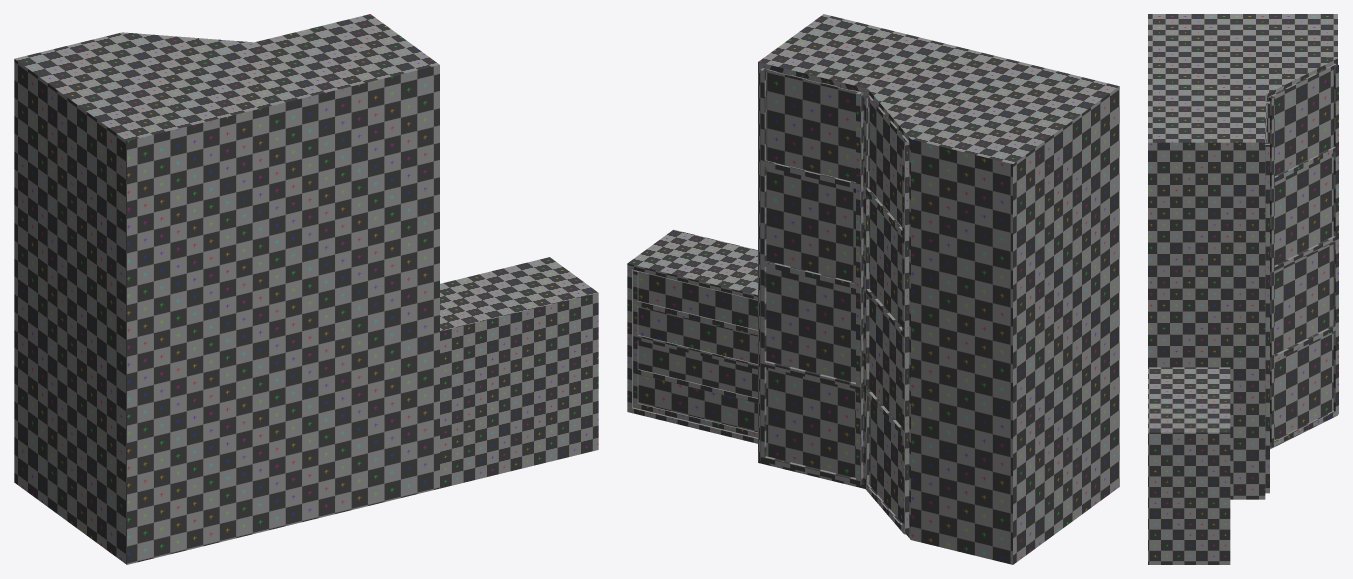
The model's file is SzafaSyp.obj.
3 renders of one model, left to right at view 1: azimuth 30°, elevation 25°; view 2: azimuth 150°, elevation 25°; view 3: azimuth 270°, elevation 25°, orthographic. The views are drawn at different scales.
Visible parts, largest first — view 1: Cube_Cube.005; view 2: Cube_Cube.005; view 3: Cube_Cube.005.
Part boxes in pixels (x1,y1,x2,y2): Cube_Cube.005: (14, 14, 598, 564); Cube_Cube.005: (627, 14, 1119, 564); Cube_Cube.005: (1148, 14, 1338, 564).
Size of the model in its own units: 4.79 by 4.12 by 1.99.
